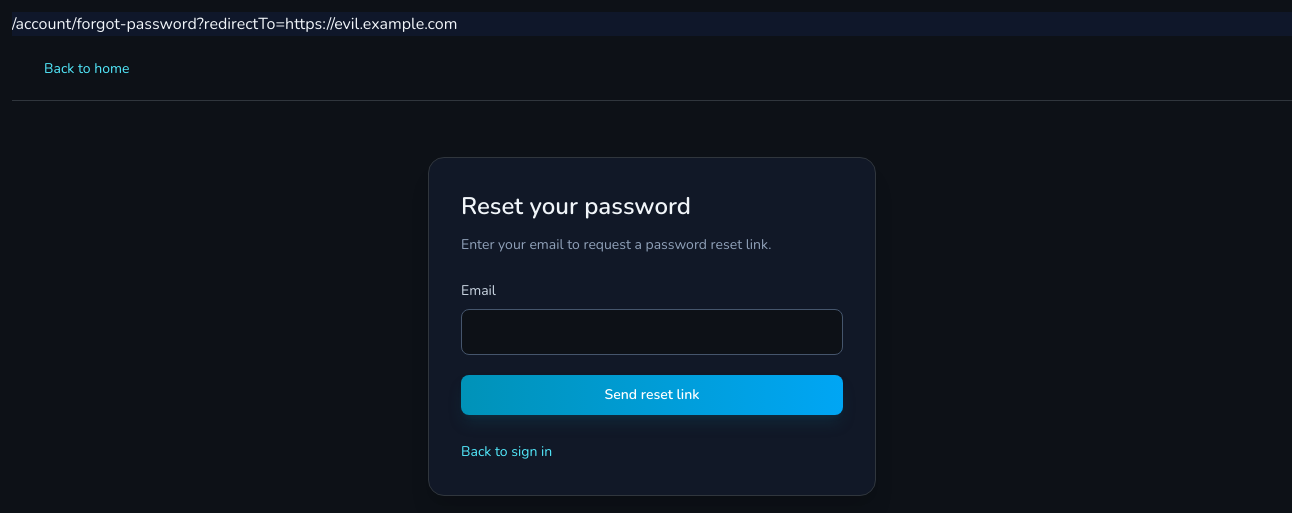
account email and password flows › uses a generic reset-request response and a fixed local redirect
Type "unknown@example.com" into the field labelled "Email".
click(652, 332); type("unknown@example.com")  # box x1=461 y1=309 x2=843 y2=355
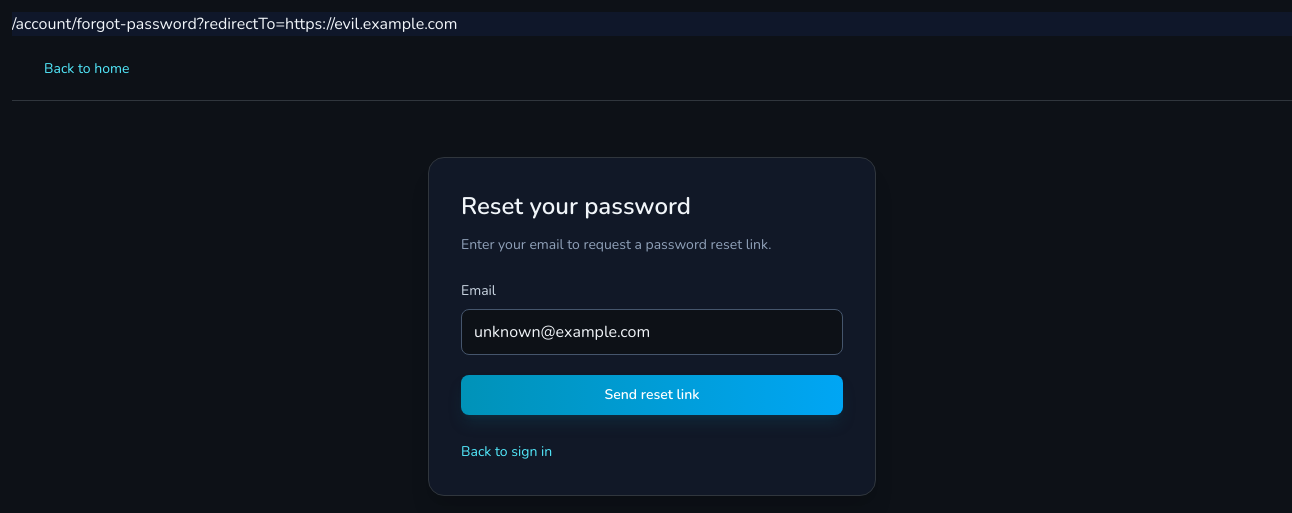
Submit the form "Send reset link", box x1=461 y1=281 x2=843 y2=415
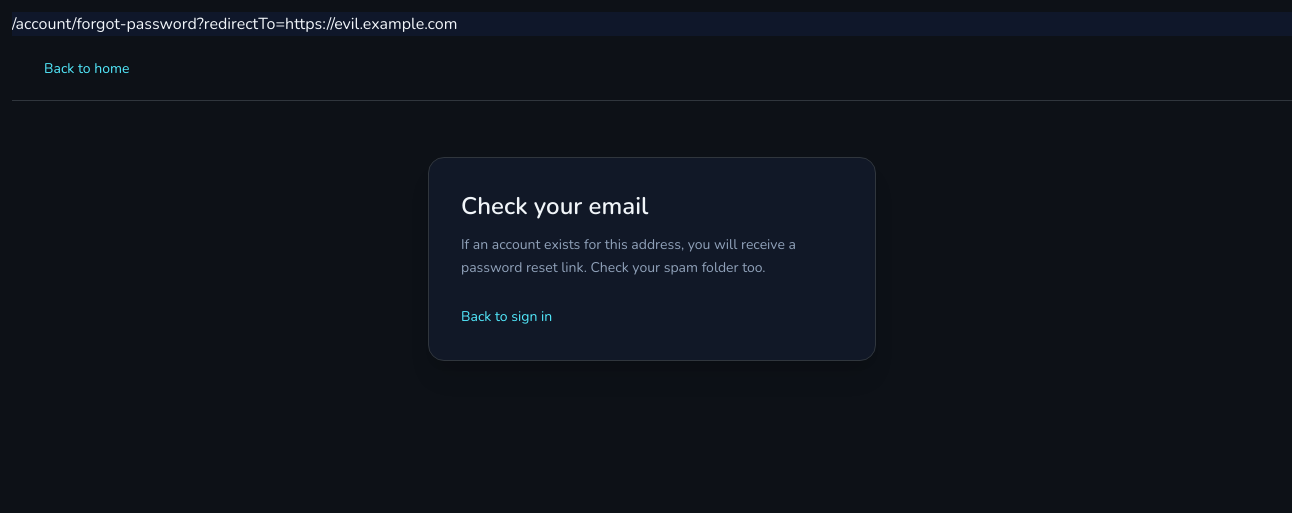
expect the heading "Check your email" is shown: met, box x1=461 y1=190 x2=648 y2=222
expect the text "If an account exists for this address" is shown: met, box x1=461 y1=235 x2=796 y2=277
